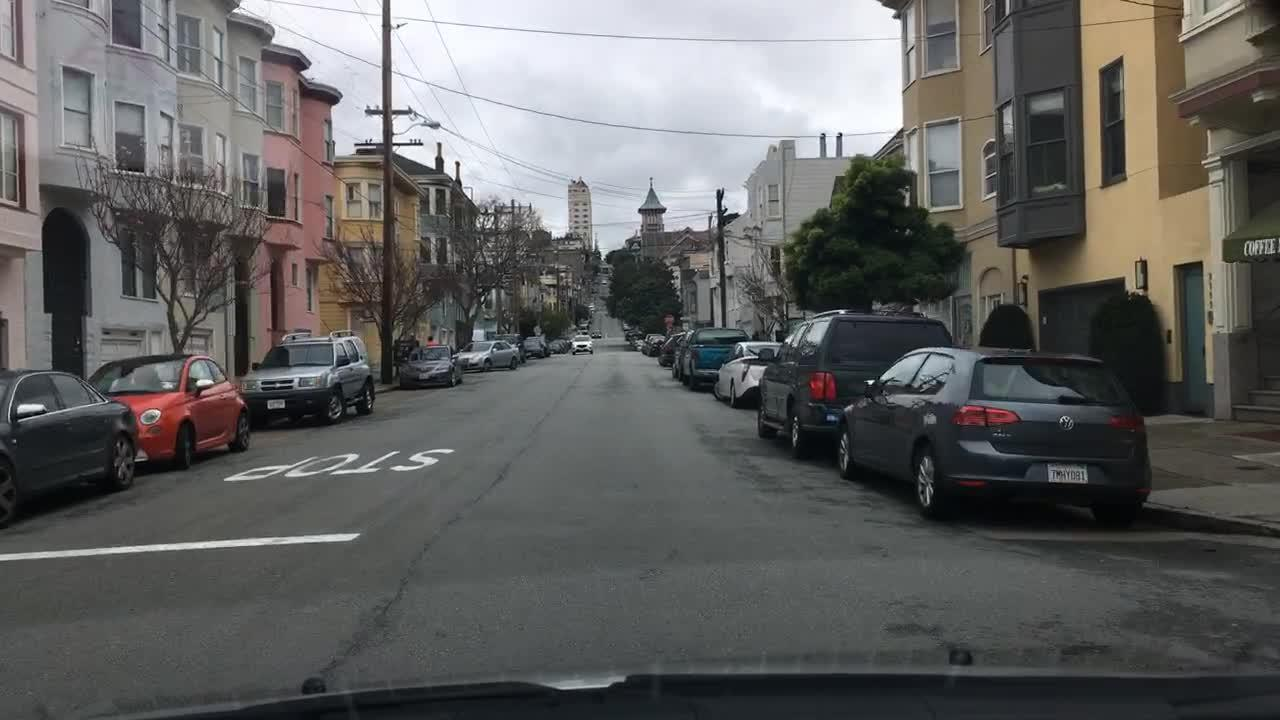Volkswagen: (1048, 412, 1081, 436)
